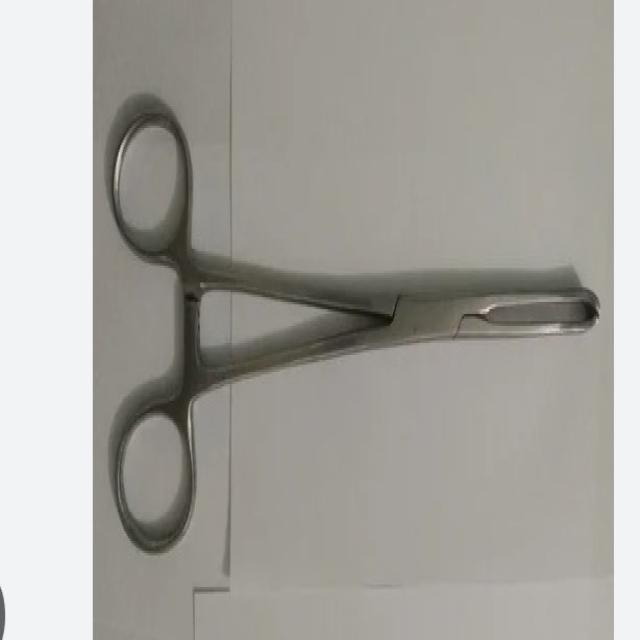Allis Forceps: (110, 106, 602, 566)
